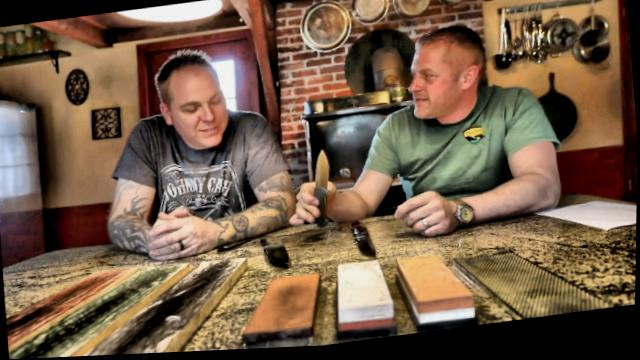knife: (290, 145, 341, 228)
